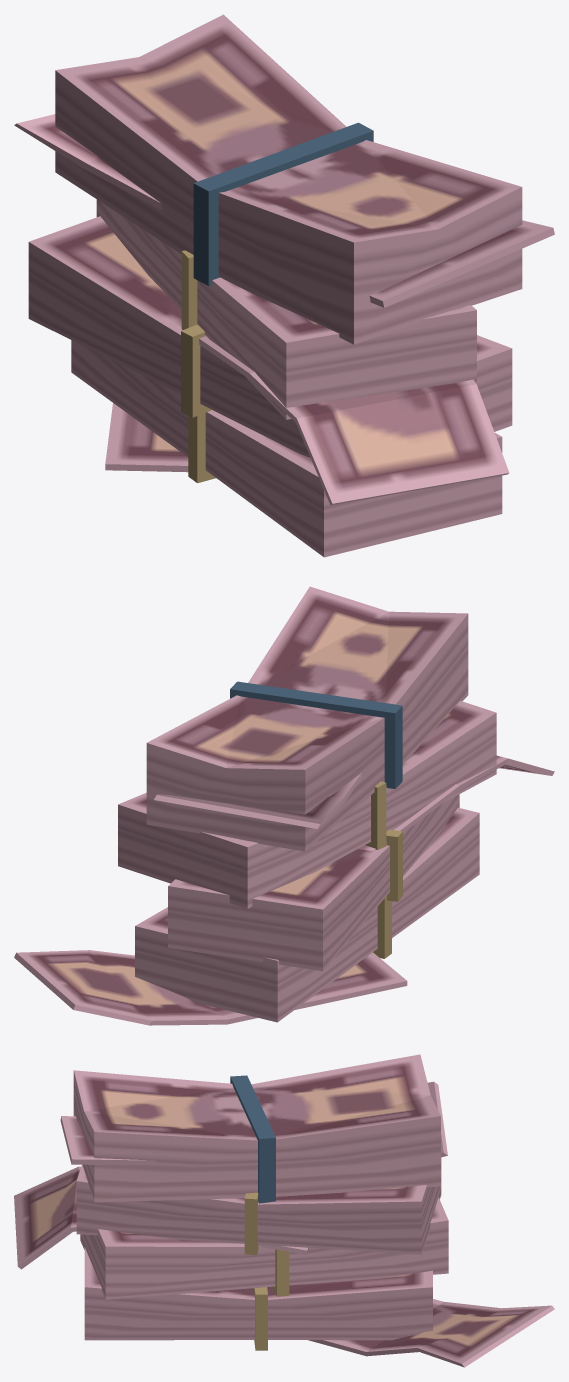
The model's file is SM_Prop_Money_Stack_01.glb.
3 views of the same model, one above another, from view 1: azimuth 30°, elevation 25°; view 2: azimuth 150°, elevation 25°; view 3: azimuth 270°, elevation 25° (orthographic). The views are drawn at different scales.
Parts seen in each view (by area): view 1: SM_Prop_Money_Stack_01; view 2: SM_Prop_Money_Stack_01; view 3: SM_Prop_Money_Stack_01.
Part boxes in pixels (x1,y1,x2,y2): SM_Prop_Money_Stack_01: (14, 14, 554, 557); SM_Prop_Money_Stack_01: (14, 586, 554, 1025); SM_Prop_Money_Stack_01: (14, 1054, 554, 1367).
Bounding box in the file's own units: 0.2317 × 0.1945 × 0.4246.
Materials: 1 (1 with a texture image).
